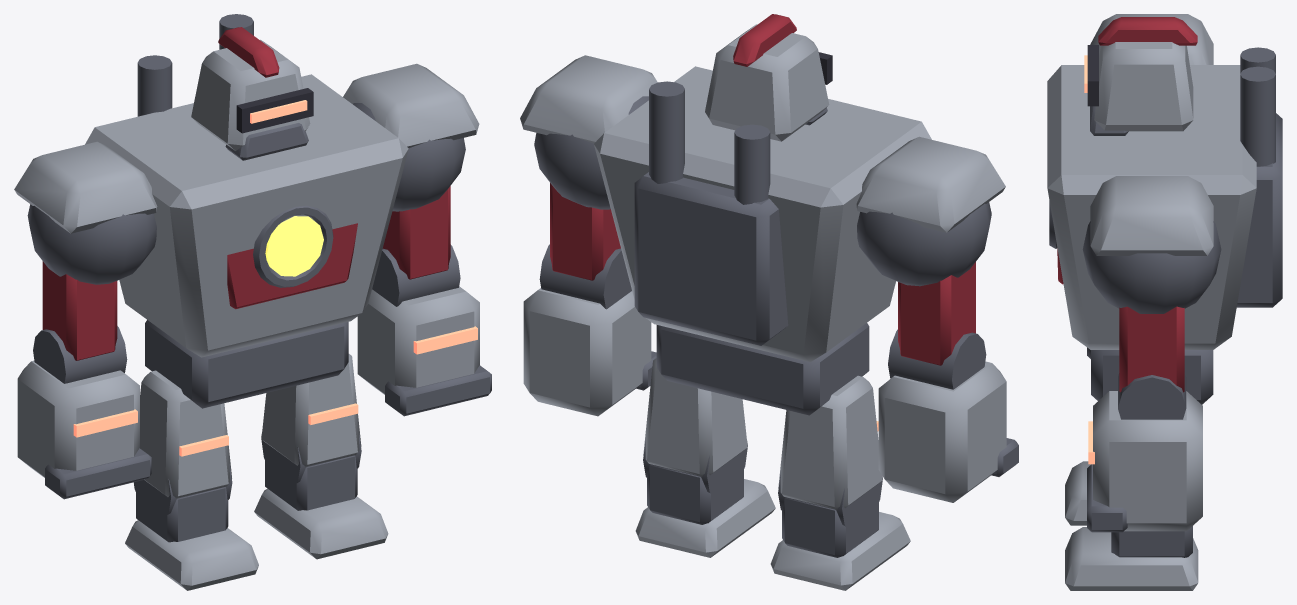
File: boss_titan.glb
3 renders of one model, left to right at view 1: azimuth 30°, elevation 25°; view 2: azimuth 150°, elevation 25°; view 3: azimuth 270°, elevation 25°, orthographic. The views are drawn at different scales.
Visible parts, largest first — view 1: torso, armL, armR, legL, legR, head; view 2: torso, armL, armR, legL, legR, head; view 3: torso, armR, head, legR, armL, legL.
Part boxes in pixels (box(x1,y1,x2,y2)): torso: box(85, 14, 408, 408); armL: box(14, 141, 157, 499); armR: box(343, 63, 491, 416); legL: box(125, 370, 258, 590); legR: box(254, 354, 388, 559); head: box(191, 27, 313, 160); torso: box(594, 66, 931, 415); armL: box(856, 136, 1018, 502); armR: box(520, 55, 657, 416); legL: box(770, 375, 910, 590); legR: box(635, 358, 775, 557); head: box(705, 14, 832, 141); torso: box(1047, 47, 1282, 404); armR: box(1082, 176, 1221, 532); head: box(1084, 17, 1197, 135); legR: box(1065, 526, 1198, 590); armL: box(1087, 14, 1213, 358); legL: box(1065, 461, 1090, 525).
Bounding box in the file's own units: 6.35 × 7.05 × 2.88.
